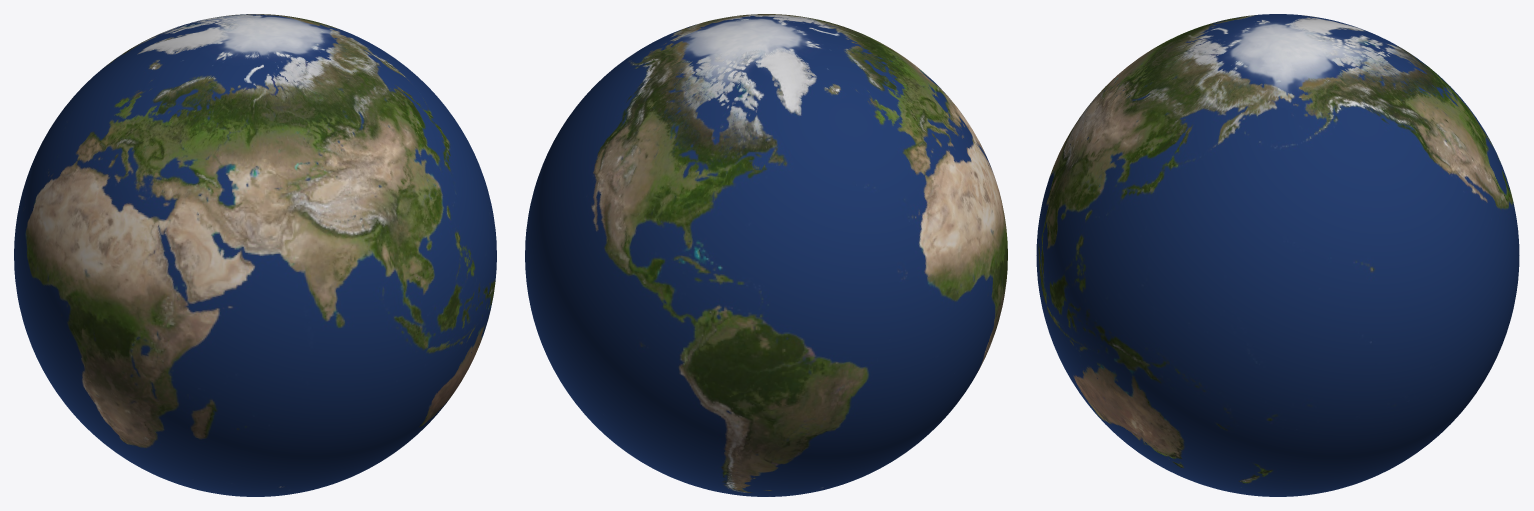
Rendered from erth1.glb.
3 renders of one model, left to right at view 1: azimuth 30°, elevation 25°; view 2: azimuth 150°, elevation 25°; view 3: azimuth 270°, elevation 25°, orthographic.
Parts seen in each view (by area): view 1: 球体; view 2: 球体; view 3: 球体.
Boxes of the visible parts, box(x1,y1,x2,y2) form: 球体: box(14, 14, 496, 496); 球体: box(525, 14, 1007, 496); 球体: box(1036, 14, 1519, 496).
Bounding box in the file's own units: 20 × 20 × 20.
Materials: 1 (1 with a texture image).
